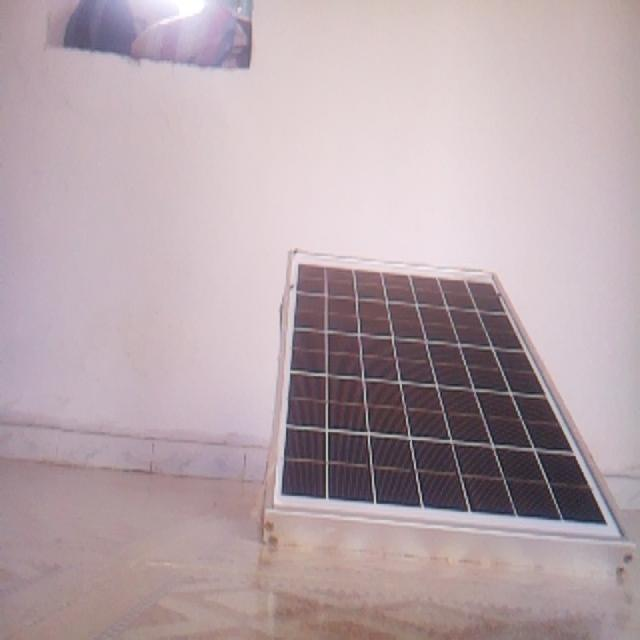Normal Solar Panel: (266, 251, 631, 561)
